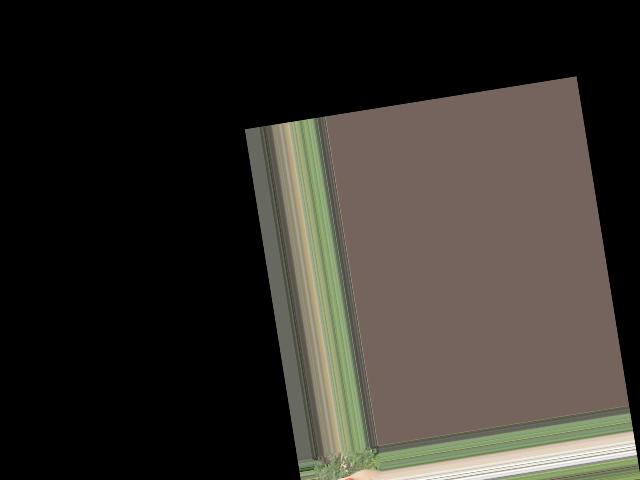tomato: (338, 475, 362, 480)
